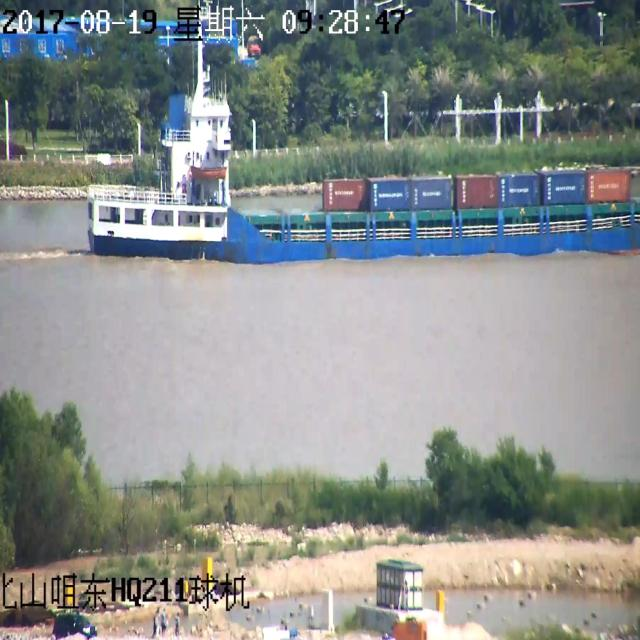cargoship: (95, 84, 623, 273)
